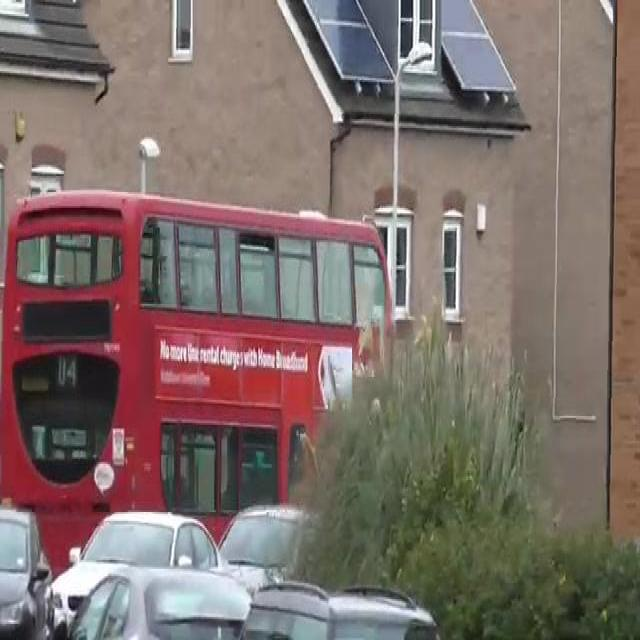motorcycle: (29, 199, 380, 549)
